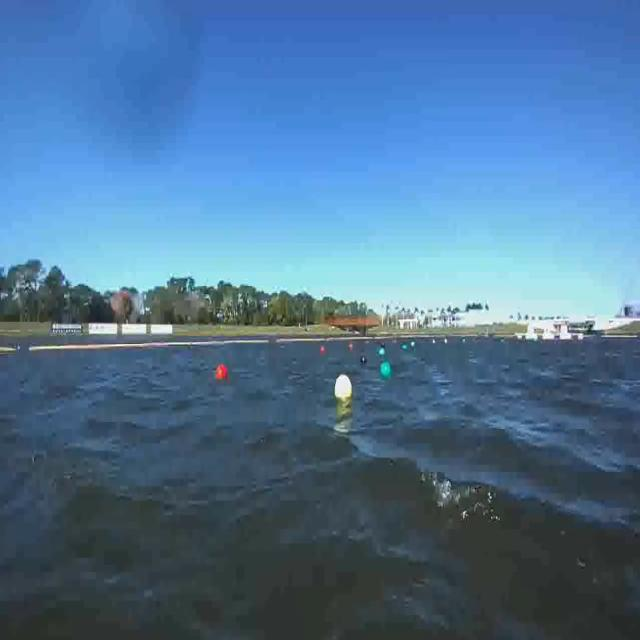black-buoy: (360, 356, 366, 365)
green-buoy: (381, 361, 392, 377), (402, 346, 406, 352)
red-buoy: (216, 364, 228, 380)
yellow-buoy: (336, 372, 354, 401)
